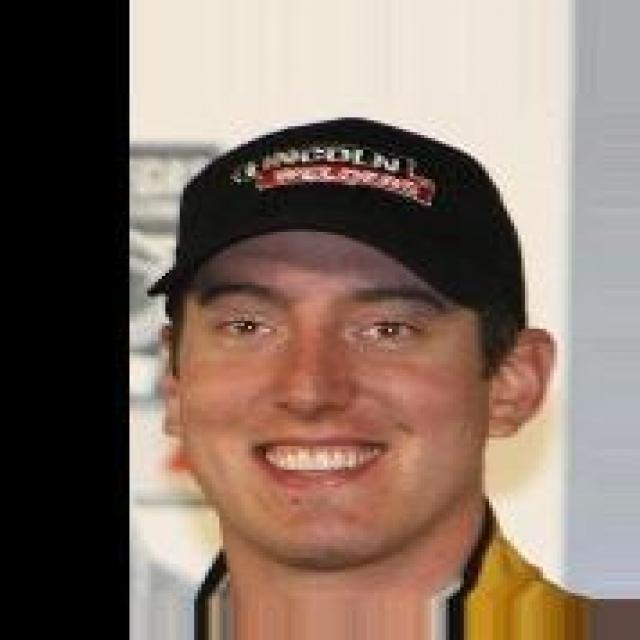nomask: (148, 153, 546, 602)
